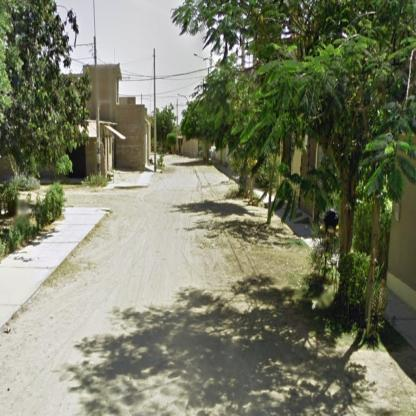Pista: (2, 158, 391, 416)
